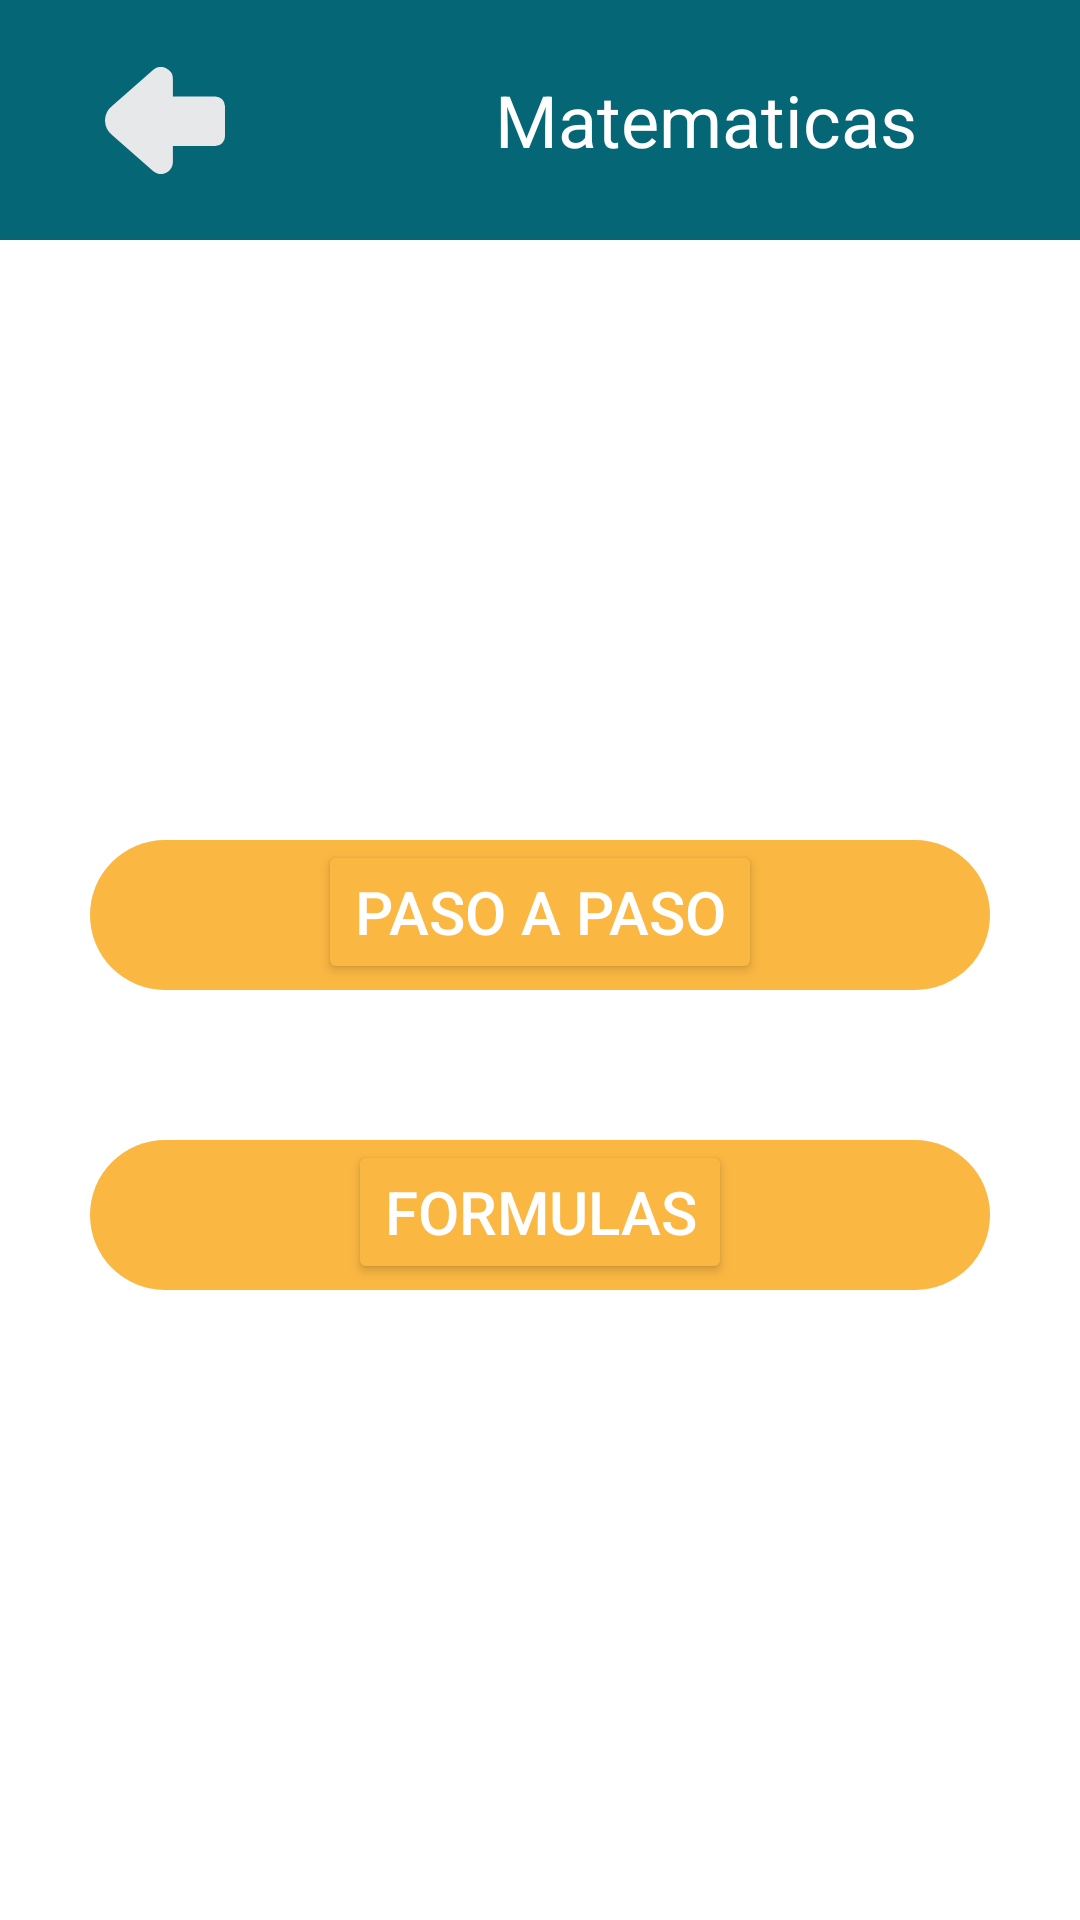

Point at icon controls on the screen. Image size 1080px x 1920px, points as [x,y].
flechaatras: [165,120]
